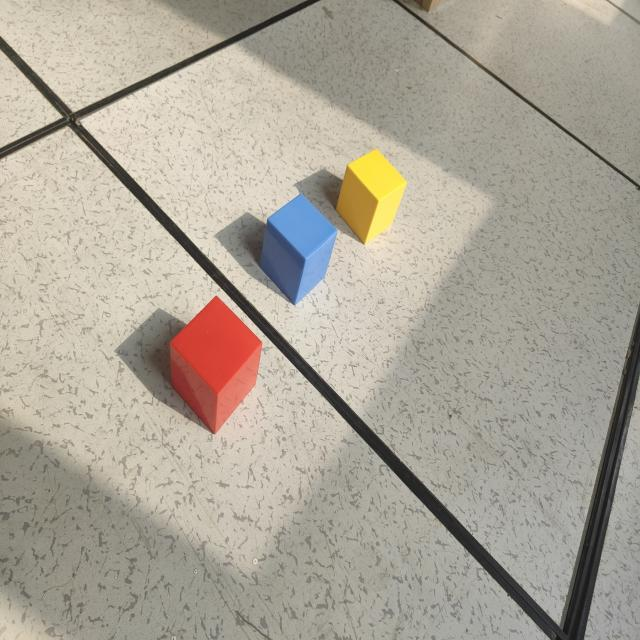blue: (257, 196, 338, 307)
red: (167, 297, 263, 435)
yellow: (335, 151, 407, 246)
